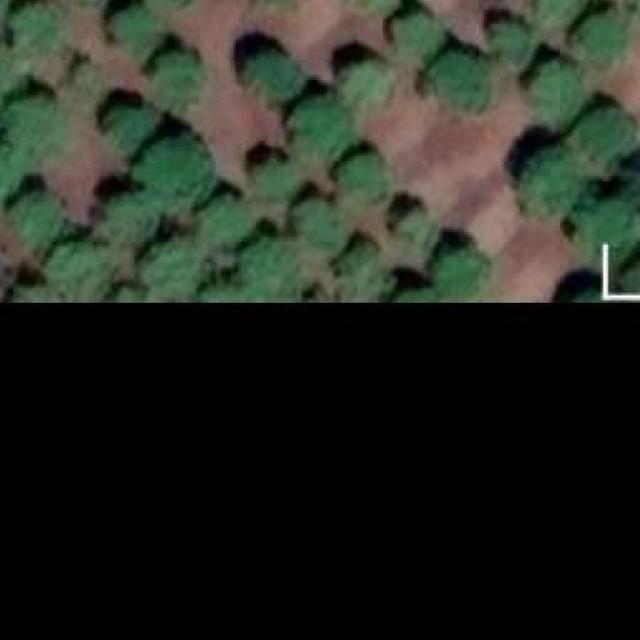Tree: (15, 237, 114, 301), (200, 240, 300, 301), (130, 140, 210, 214), (118, 242, 204, 301), (520, 146, 588, 217), (96, 194, 155, 272), (575, 198, 640, 268), (570, 105, 634, 171), (290, 98, 354, 154), (5, 95, 64, 154), (430, 50, 489, 108), (600, 151, 640, 227), (570, 14, 624, 68), (196, 197, 251, 250), (295, 197, 348, 252), (335, 154, 386, 210), (431, 247, 482, 301), (246, 53, 305, 98), (153, 53, 203, 106), (532, 60, 580, 113), (395, 11, 443, 60), (13, 2, 64, 48), (340, 60, 394, 103), (13, 196, 64, 240), (251, 159, 305, 199), (111, 7, 160, 51), (492, 22, 533, 68), (337, 242, 381, 283), (0, 49, 25, 117), (107, 110, 151, 146), (0, 143, 21, 199), (534, 0, 575, 21), (398, 209, 428, 237)
